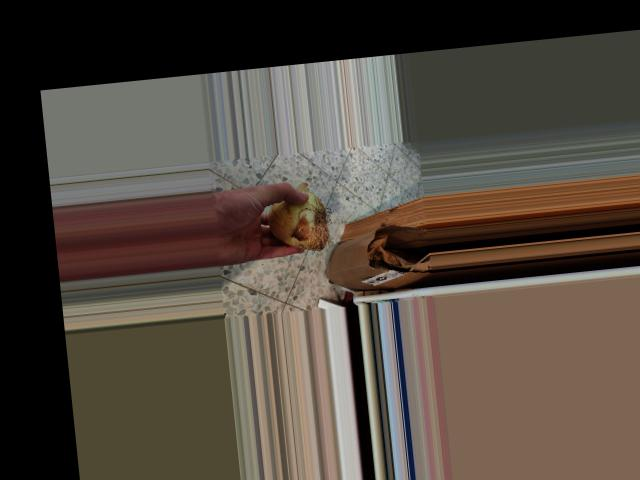onion: (262, 184, 335, 255)
